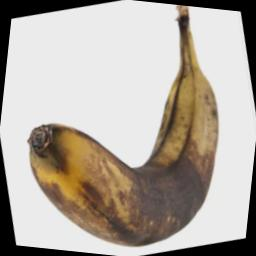Banana Rotten: (0, 81, 230, 256)
